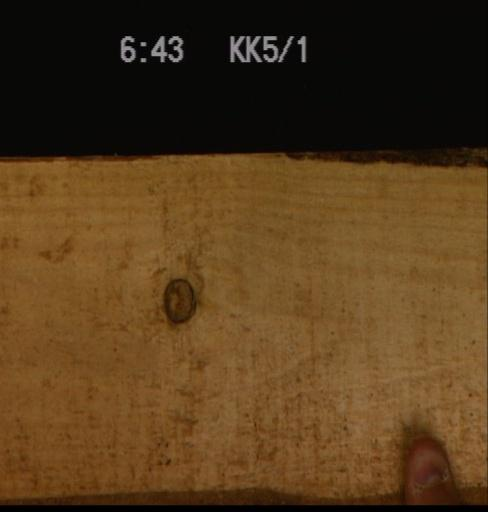dry_knot: (159, 276, 194, 325)
wave: (0, 146, 486, 165), (0, 485, 402, 504)
